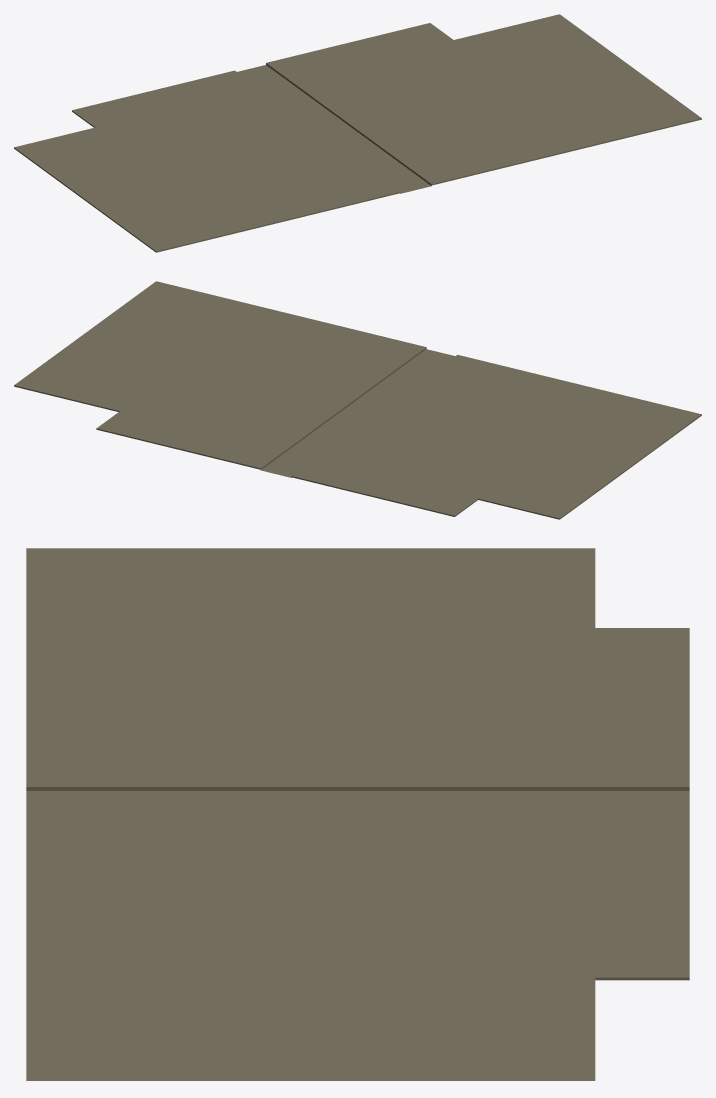
The model's file is TempleTile_L.fbx.
The picture shows the model from 3 angles, top to bottom: view 1: azimuth 30°, elevation 25°; view 2: azimuth 150°, elevation 25°; view 3: azimuth 270°, elevation 25°; orthographic projection. The views are drawn at different scales.
Parts seen in each view (by area): view 1: TempleTile_L; view 2: TempleTile_L; view 3: TempleTile_L.
Part boxes in pixels (x1,y1,x2,y2): TempleTile_L: (14, 14, 701, 252); TempleTile_L: (14, 281, 701, 519); TempleTile_L: (26, 548, 689, 1080).
Bounding box in the file's own units: 7920 × 27.45 × 4167.
